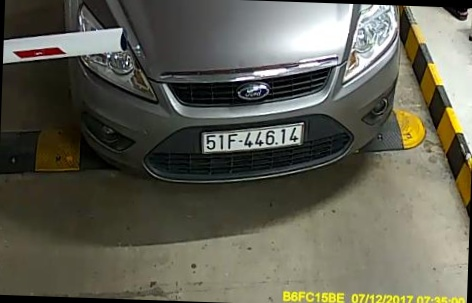plate: (190, 121, 309, 151)
